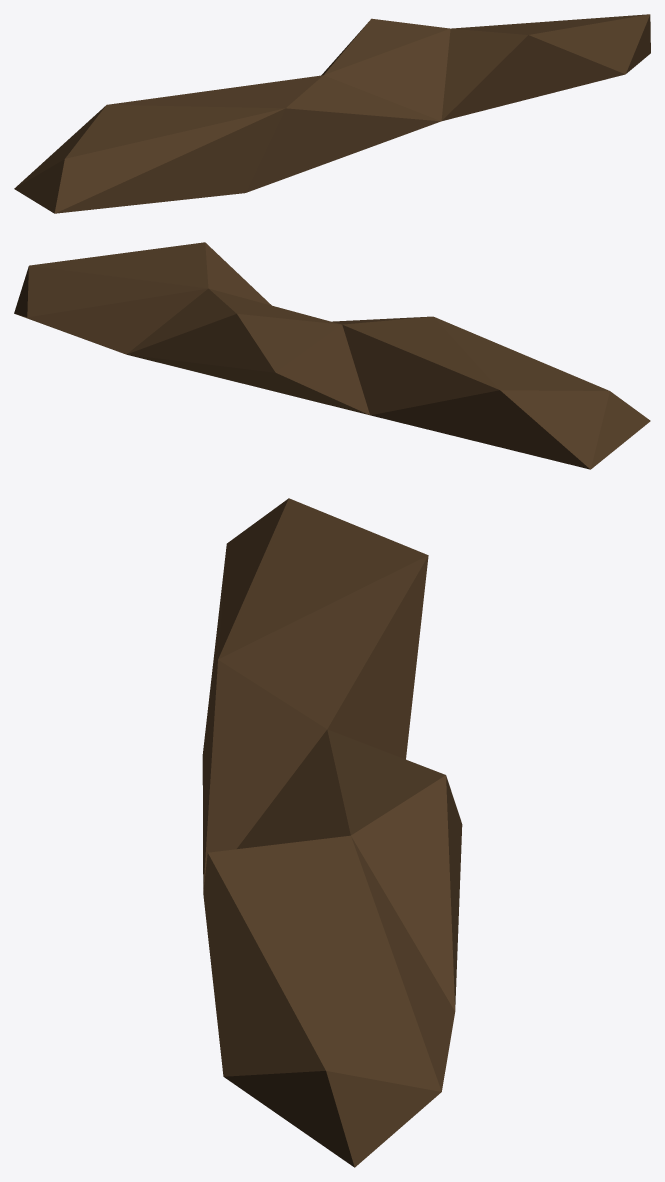
Rendered from MCastle_DirtBoarder_Small_02.FBX.
The picture shows the model from 3 angles, top to bottom: view 1: azimuth 30°, elevation 25°; view 2: azimuth 150°, elevation 25°; view 3: azimuth 270°, elevation 25°; orthographic projection. The views are drawn at different scales.
Visible parts, largest first — view 1: MCastle_DirtBoarder_Small_02_LOD0; view 2: MCastle_DirtBoarder_Small_02_LOD0; view 3: MCastle_DirtBoarder_Small_02_LOD0.
Boxes of the visible parts, box(x1,y1,x2,y2) form: MCastle_DirtBoarder_Small_02_LOD0: box(14, 14, 650, 213); MCastle_DirtBoarder_Small_02_LOD0: box(14, 242, 650, 469); MCastle_DirtBoarder_Small_02_LOD0: box(202, 498, 462, 1167).
Bounding box in the file's own units: 1.14 × 0.1549 × 0.2116.
